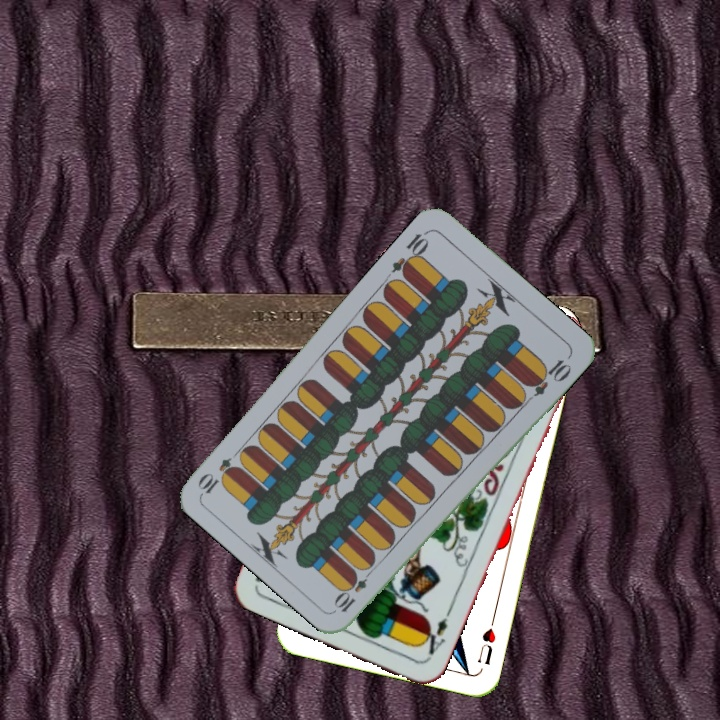E10: (388, 226, 432, 281), (331, 563, 377, 615)
EA: (416, 606, 454, 662)
HU: (473, 613, 499, 668)
